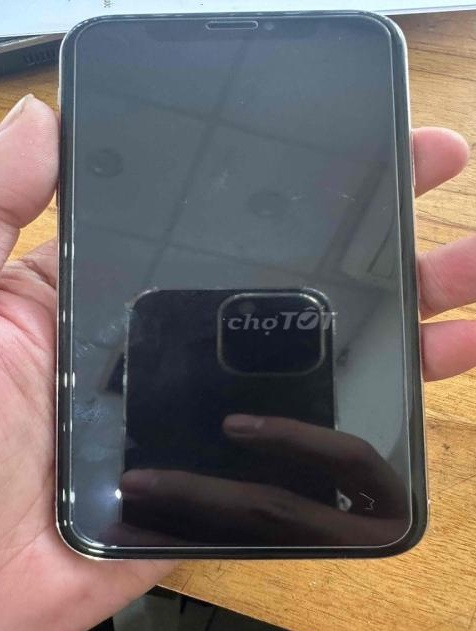scratch: (66, 320, 133, 435), (315, 183, 395, 223), (95, 9, 366, 19), (335, 486, 394, 517), (56, 19, 115, 46), (274, 187, 318, 215), (375, 17, 400, 34)
